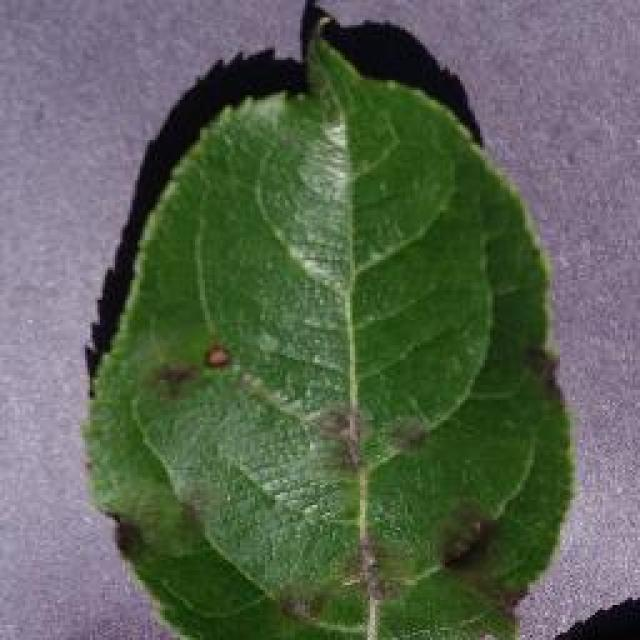apple scab disease: (80, 0, 580, 638)
